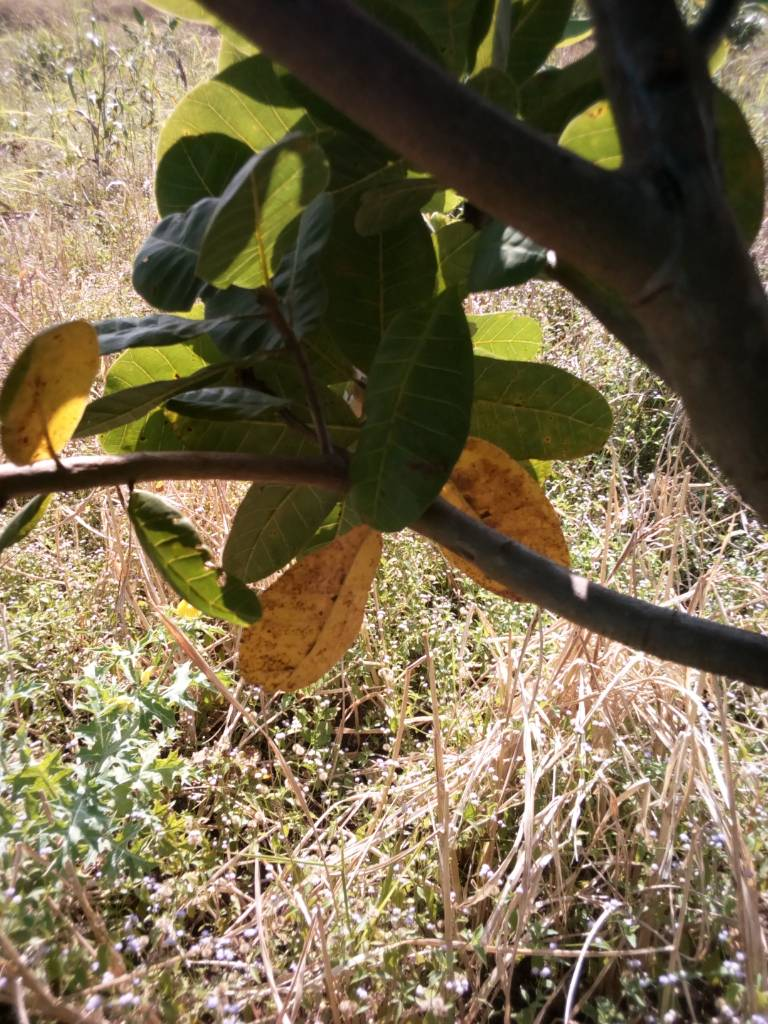Anthracnose: (238, 524, 383, 686)
